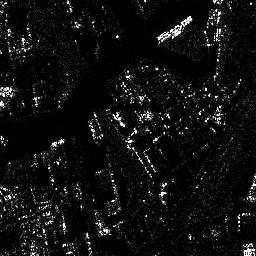ship: (156, 15, 193, 43)
